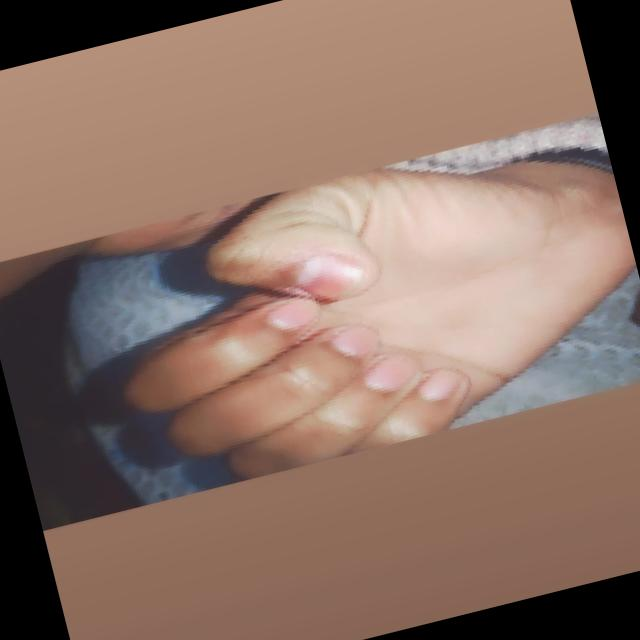Nail: (297, 253, 365, 300), (364, 354, 418, 391), (330, 324, 380, 358), (267, 299, 319, 329), (418, 368, 460, 401)
